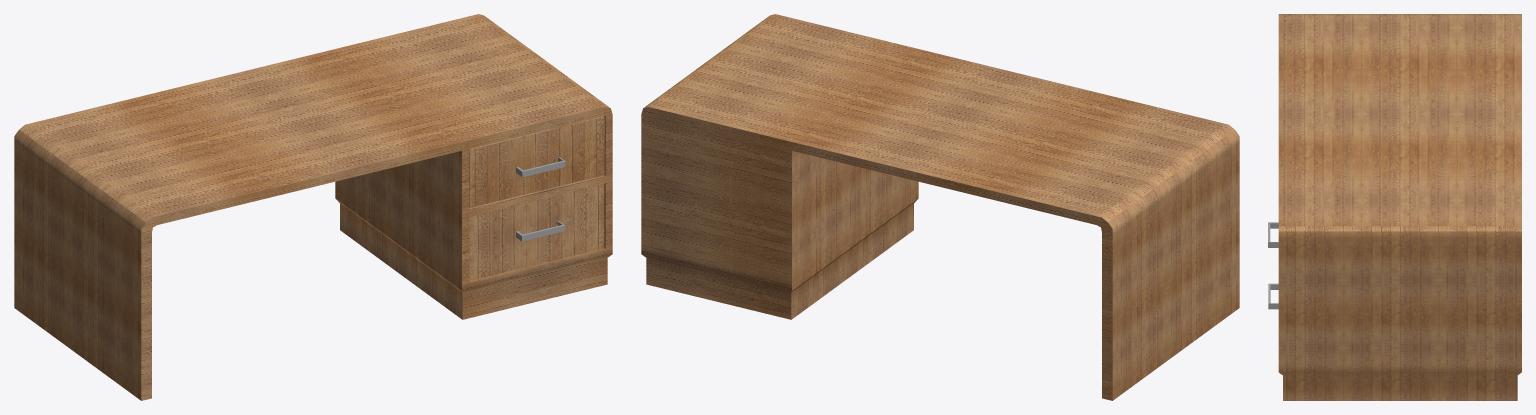
File: desk2.fbx
3 renders of one model, left to right at view 1: azimuth 30°, elevation 25°; view 2: azimuth 150°, elevation 25°; view 3: azimuth 270°, elevation 25°, orthographic. The views are drawn at different scales.
Visible parts, largest first — view 1: pCube2, pCube8, pCube7; view 2: pCube2; view 3: pCube2.
Boxes of the visible parts, <box> form: pCube2: <box>14,14,612,400</box>; pCube8: <box>469,184,604,280</box>; pCube7: <box>469,116,604,207</box>; pCube2: <box>641,14,1239,400</box>; pCube2: <box>1278,14,1521,400</box>.
Size of the model in its own units: 9 by 3.3 by 4.38.
Materials: 2 (1 with a texture image).
